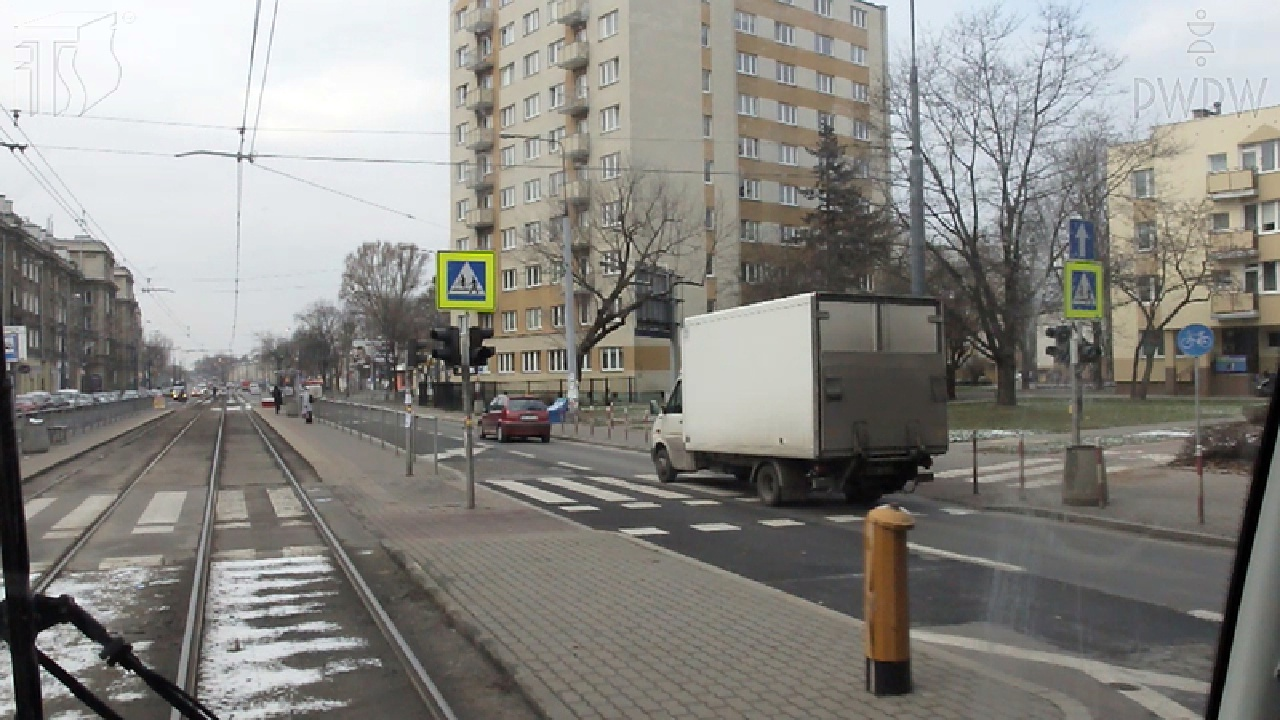D3: (1070, 219, 1093, 260)
D6b: (446, 261, 486, 302)
